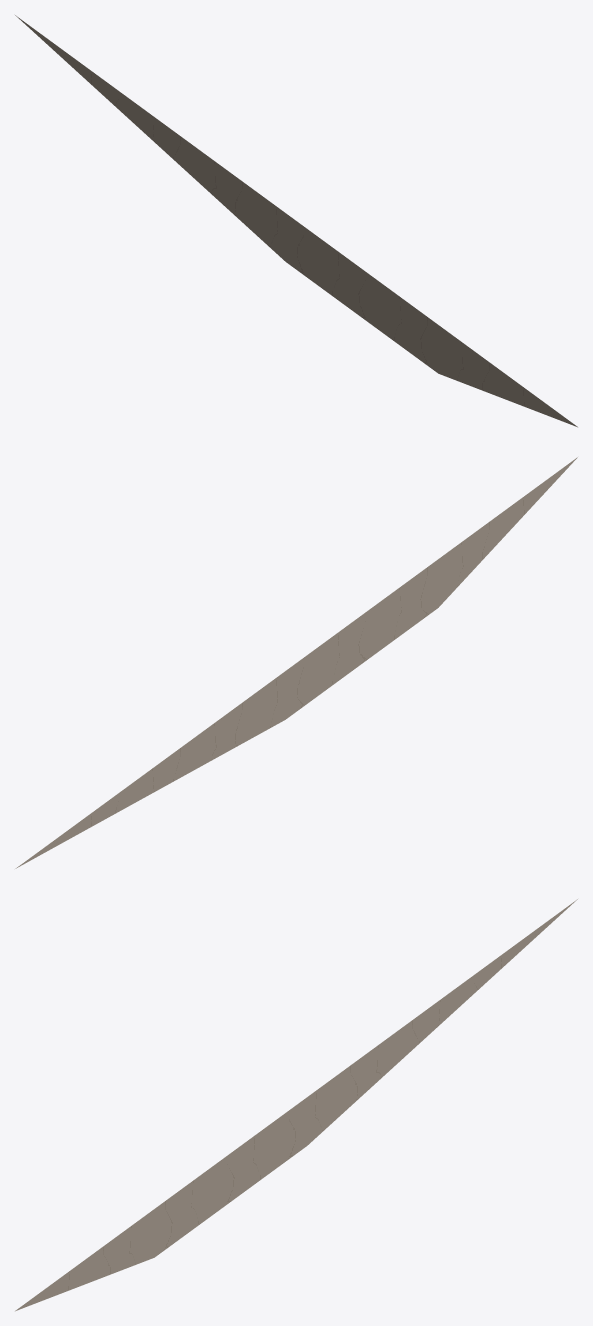
The model's file is kd_stage_135d18_4_146_bounded_piece_9.glb.
3 views of the same model, one above another, from view 1: azimuth 30°, elevation 25°; view 2: azimuth 150°, elevation 25°; view 3: azimuth 330°, elevation 25° (orthographic).
Parts seen in each view (by area): view 1: kd_stage_135d18_4_146_bounded_piece_9; view 2: kd_stage_135d18_4_146_bounded_piece_9; view 3: kd_stage_135d18_4_146_bounded_piece_9.
Part boxes in pixels (box(x1,y1,x2,y2)): kd_stage_135d18_4_146_bounded_piece_9: box(15, 15, 577, 427); kd_stage_135d18_4_146_bounded_piece_9: box(15, 457, 577, 868); kd_stage_135d18_4_146_bounded_piece_9: box(15, 899, 577, 1311).
Size of the model in its own units: 0 by 0.1763 by 3.7.
1 material, 1 textured.
